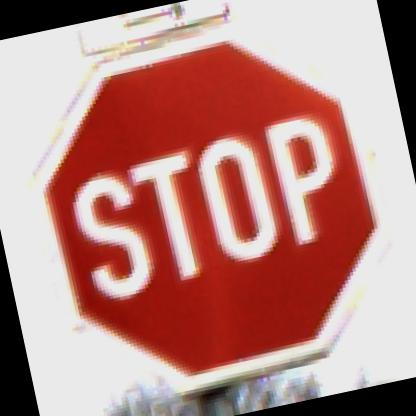stop: (3, 14, 415, 415)
